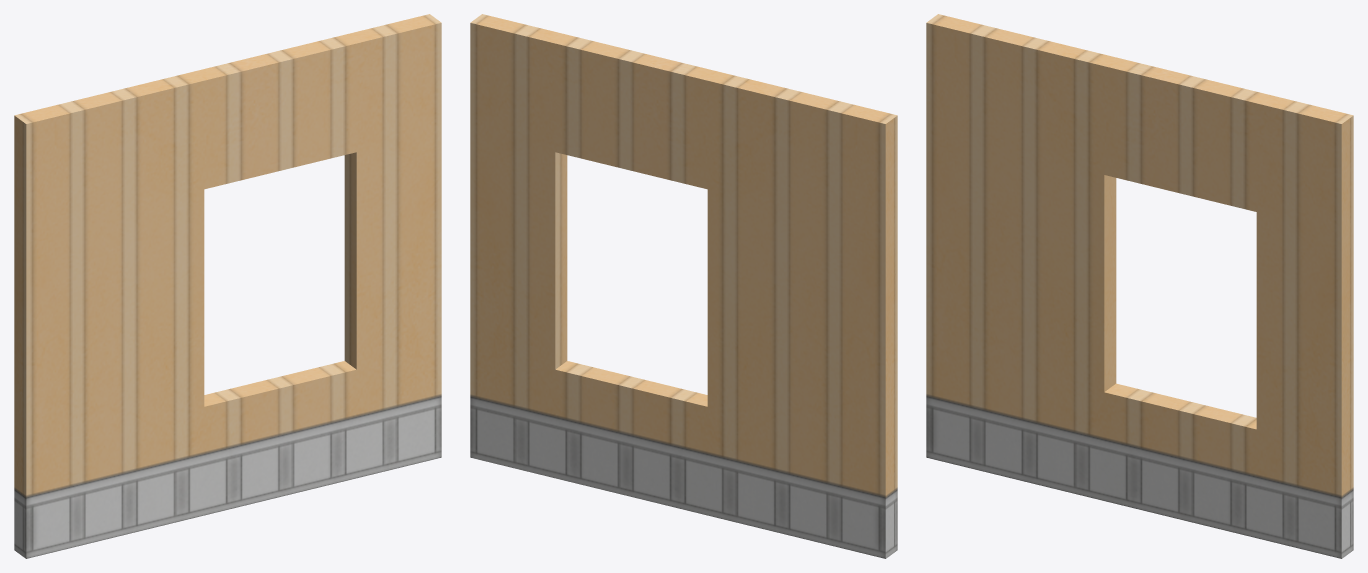
Rendered from Wall_8_D.fbx.
3 renders of one model, left to right at view 1: azimuth 30°, elevation 25°; view 2: azimuth 150°, elevation 25°; view 3: azimuth 330°, elevation 25°, orthographic.
Parts seen in each view (by area): view 1: pCube74; view 2: pCube74; view 3: pCube74.
Boxes of the visible parts, x1,y1,x2,y2 form: pCube74: (14, 14, 441, 558); pCube74: (470, 14, 897, 558); pCube74: (926, 14, 1353, 558).
Bounding box in the file's own units: 4 × 4 × 0.2.
